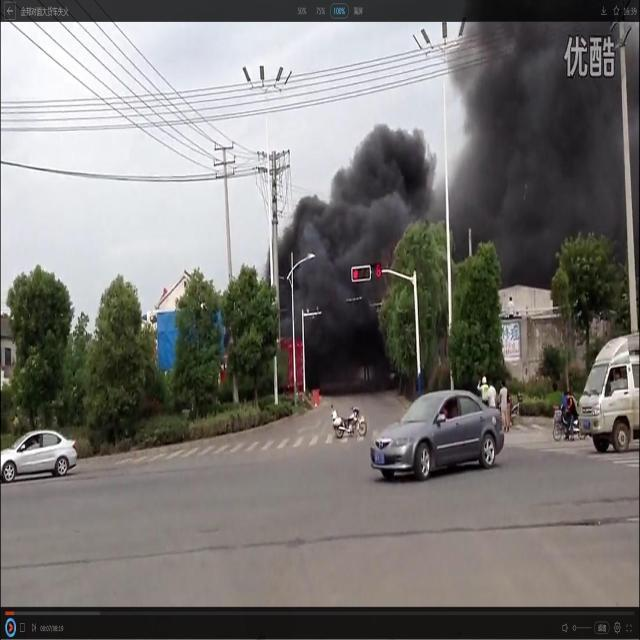Smoke: (265, 22, 640, 392)
